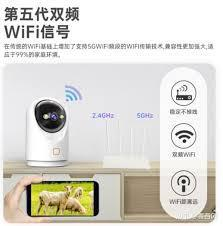maru: (22, 87, 79, 175)
